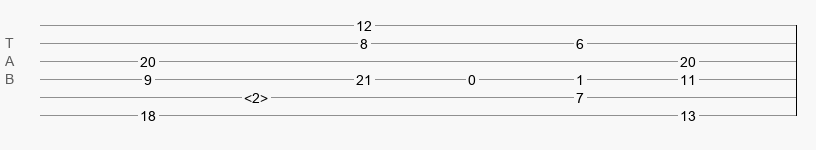0: (468, 72, 476, 82)
1: (576, 72, 584, 82)
11: (680, 72, 696, 82)
12: (356, 18, 372, 28)
13: (680, 108, 696, 118)
18: (140, 108, 156, 118)
20: (140, 54, 156, 64), (680, 54, 696, 64)
21: (356, 72, 372, 82)
6: (576, 36, 584, 46)
7: (576, 90, 584, 100)
8: (360, 36, 368, 46)
9: (144, 72, 152, 82)
harmonic: (244, 90, 268, 100)
